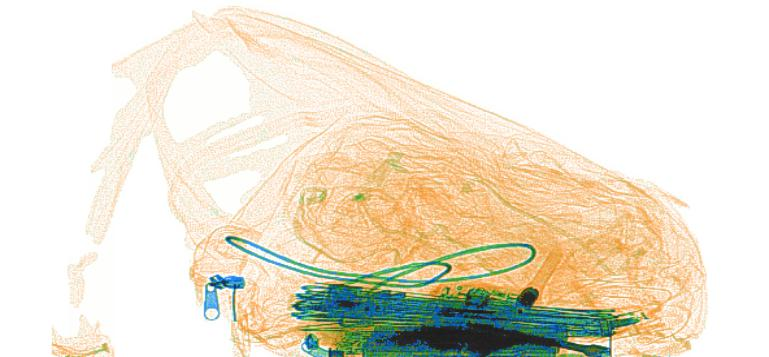battery: (326, 319, 572, 354)
